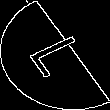L_NE: (18, 29, 92, 81)
